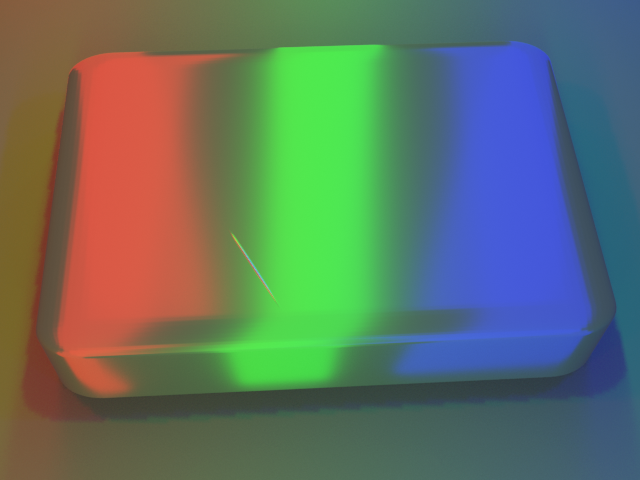scratch: (66, 172, 420, 358)
